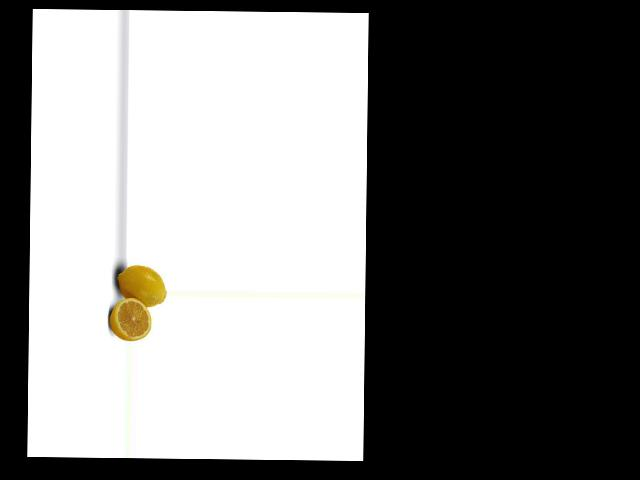lemon: (114, 261, 168, 310)
